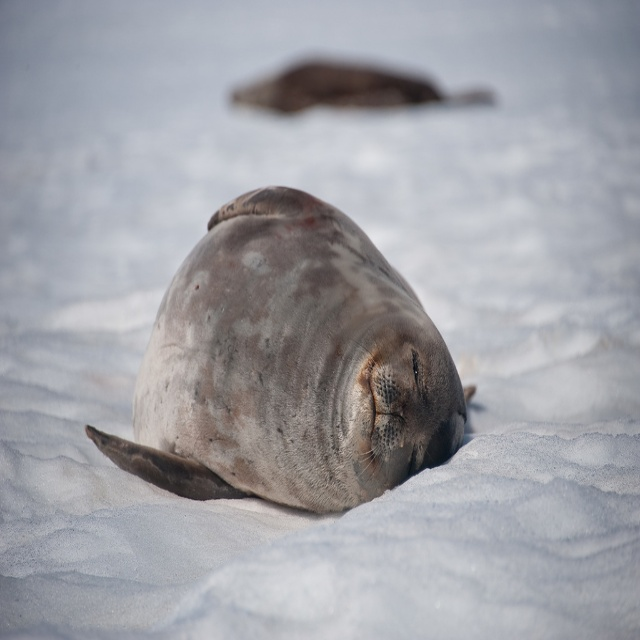Harbor seal: (82, 183, 481, 517)
